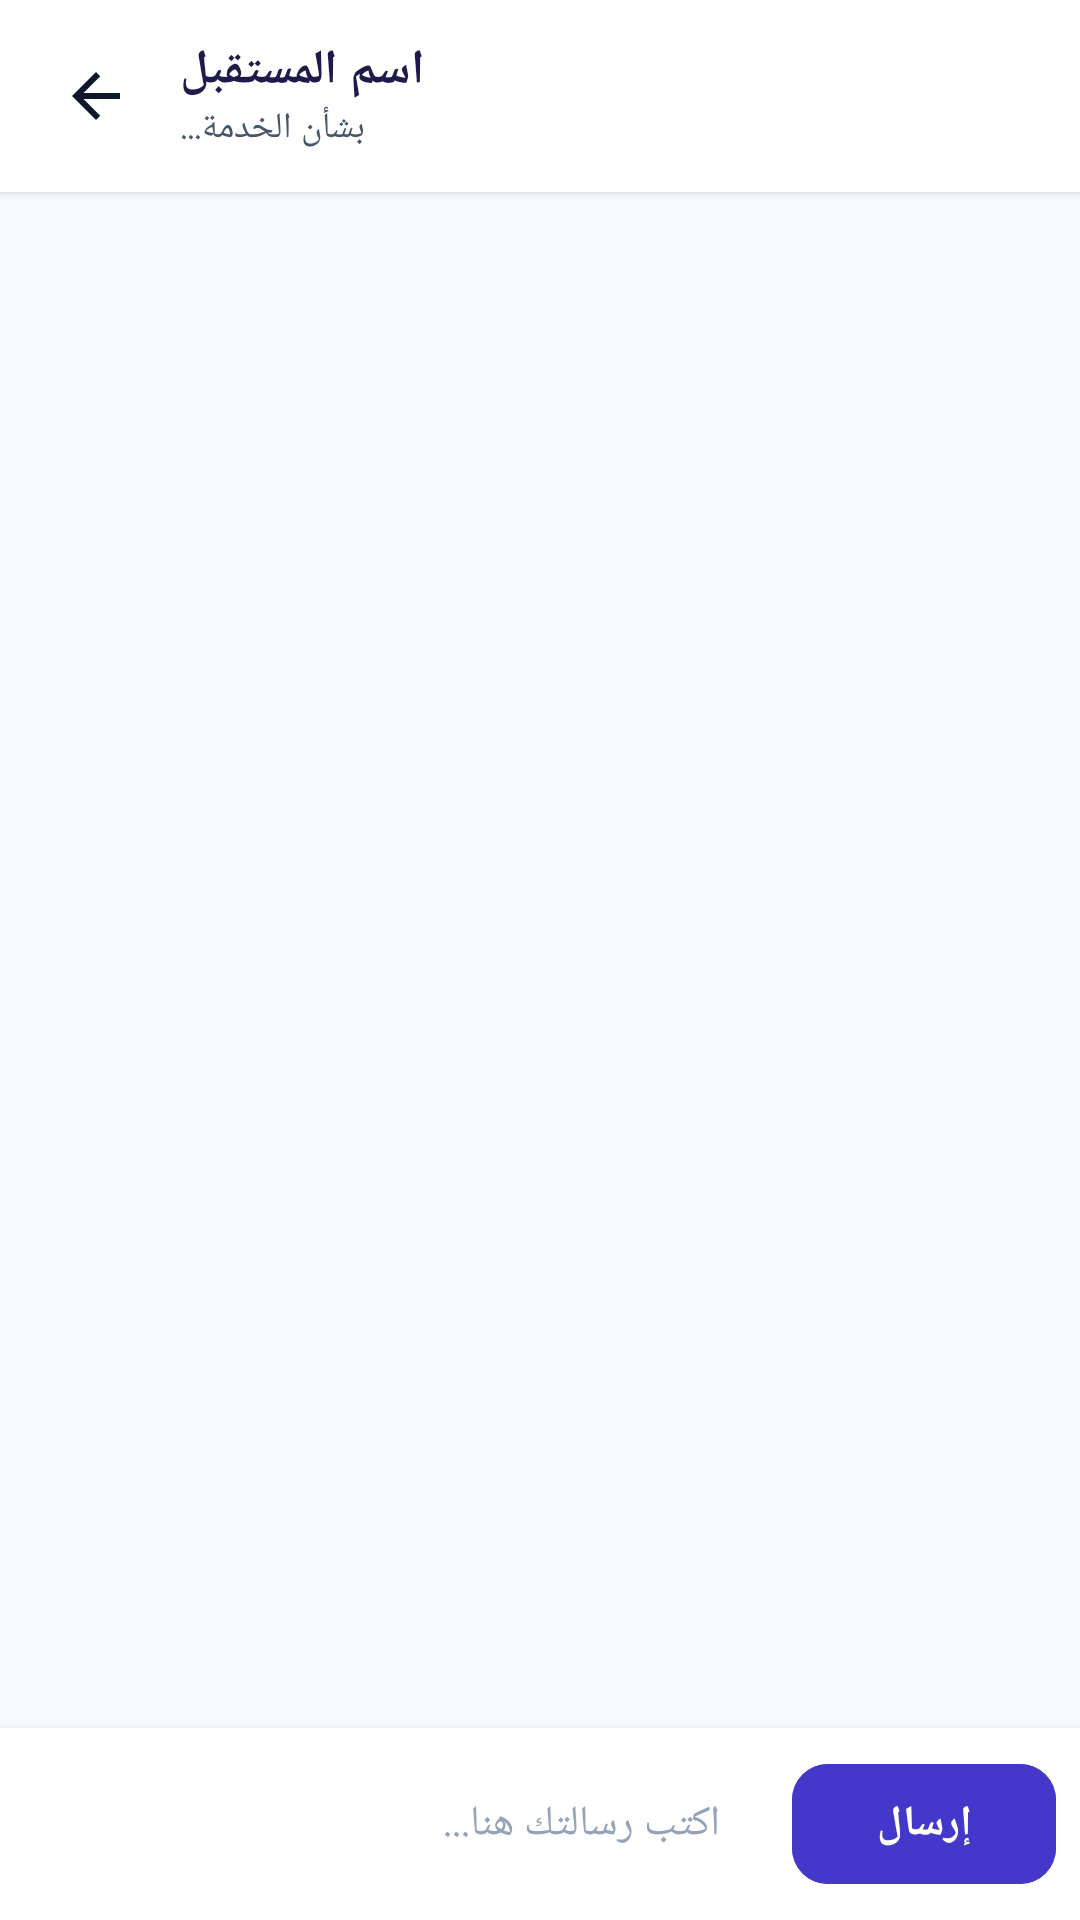

Where to tap for icons on this 1080px×1920px app screen, as [x,y]:
رجوع: [96,96]
